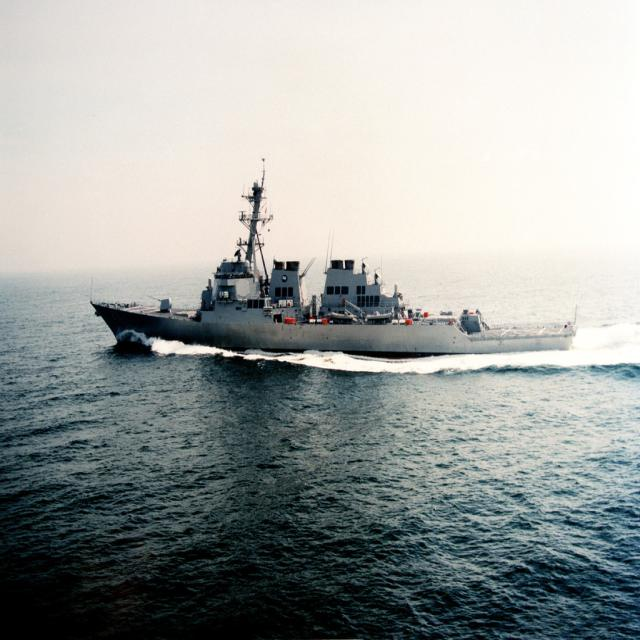navalvessels: (90, 146, 589, 364)
